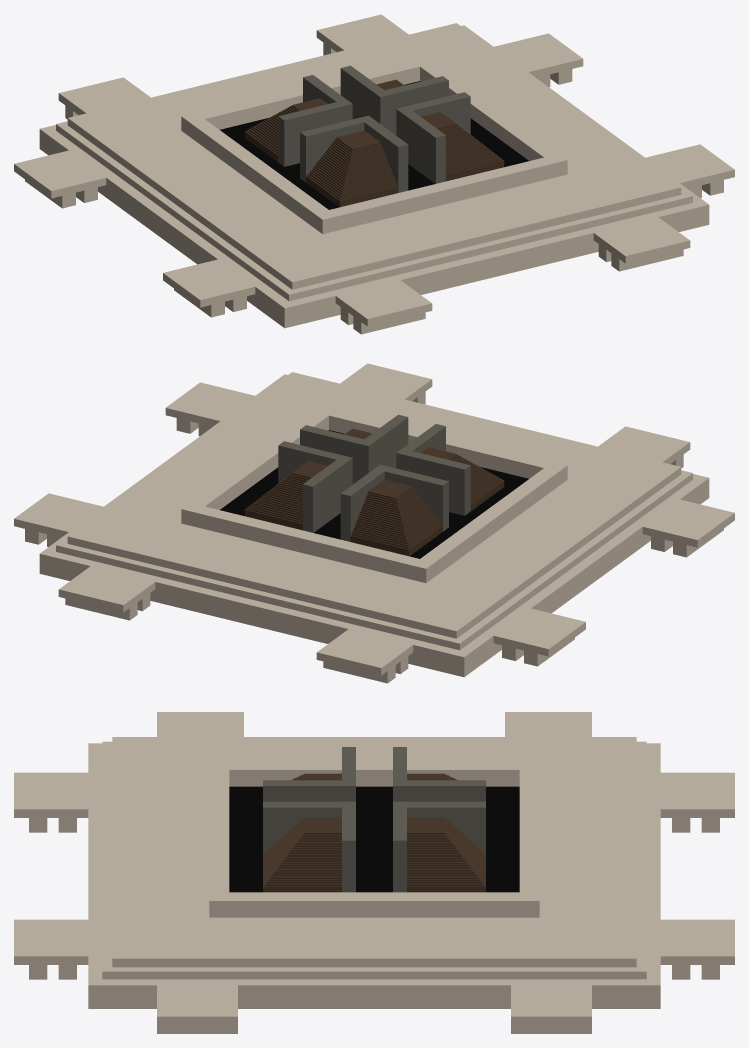
3 renders of one model, top to bottom at view 1: azimuth 30°, elevation 25°; view 2: azimuth 150°, elevation 25°; view 3: azimuth 270°, elevation 25°, orthographic. The views are drawn at different scales.
Visible parts, largest first — view 1: Plane, Cube; view 2: Plane, Cube; view 3: Plane, Cube.
Boxes of the visible parts, left/top/right/bottom form: Plane: left=14, top=14, right=734, bottom=334; Cube: left=244, top=65, right=504, bottom=207; Plane: left=14, top=363, right=734, bottom=683; Cube: left=244, top=414, right=504, bottom=556; Plane: left=14, top=712, right=734, bottom=1033; Cube: left=263, top=747, right=485, bottom=892.
Bounding box in the file's own units: 77.71 × 11.17 × 77.71.
